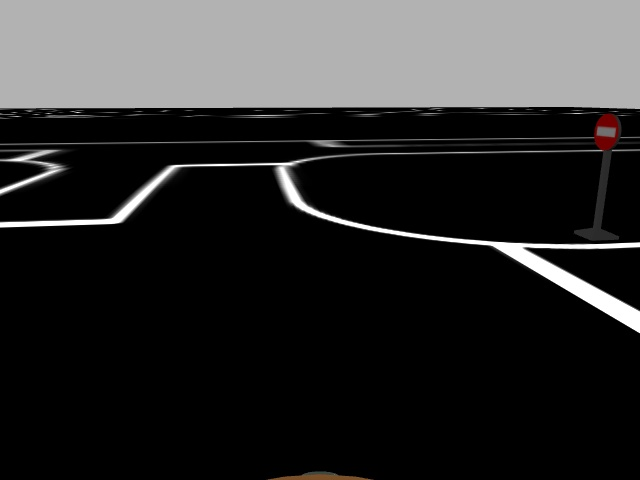prohibited: (592, 112, 622, 155)
